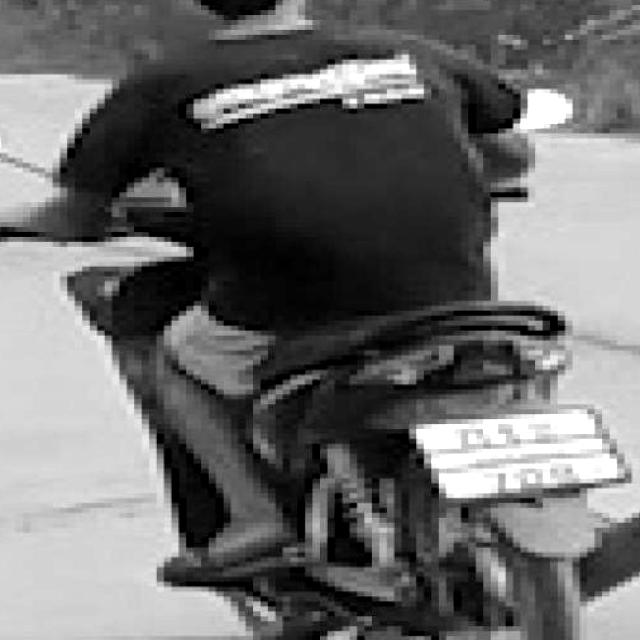letters: (515, 467, 547, 496), (528, 418, 559, 440), (463, 426, 489, 447), (485, 468, 507, 492), (496, 418, 518, 442), (553, 465, 575, 486)
license-plate: (407, 403, 632, 504)
province: (468, 444, 581, 459)
